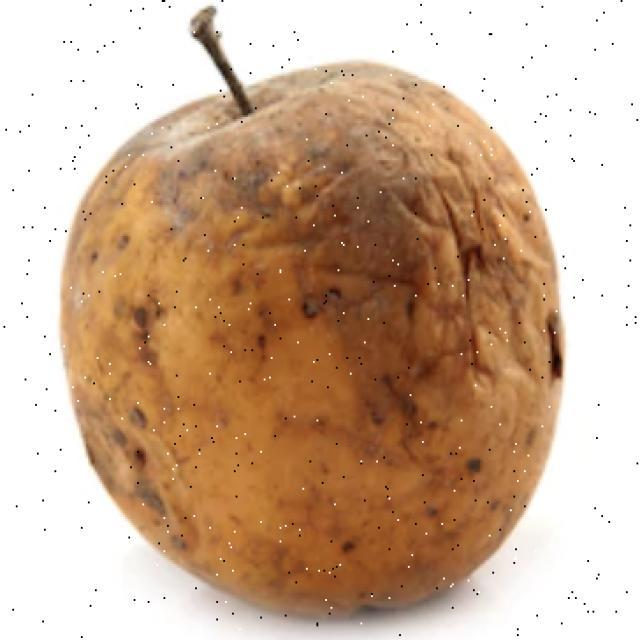Rotten: (90, 77, 572, 610)
